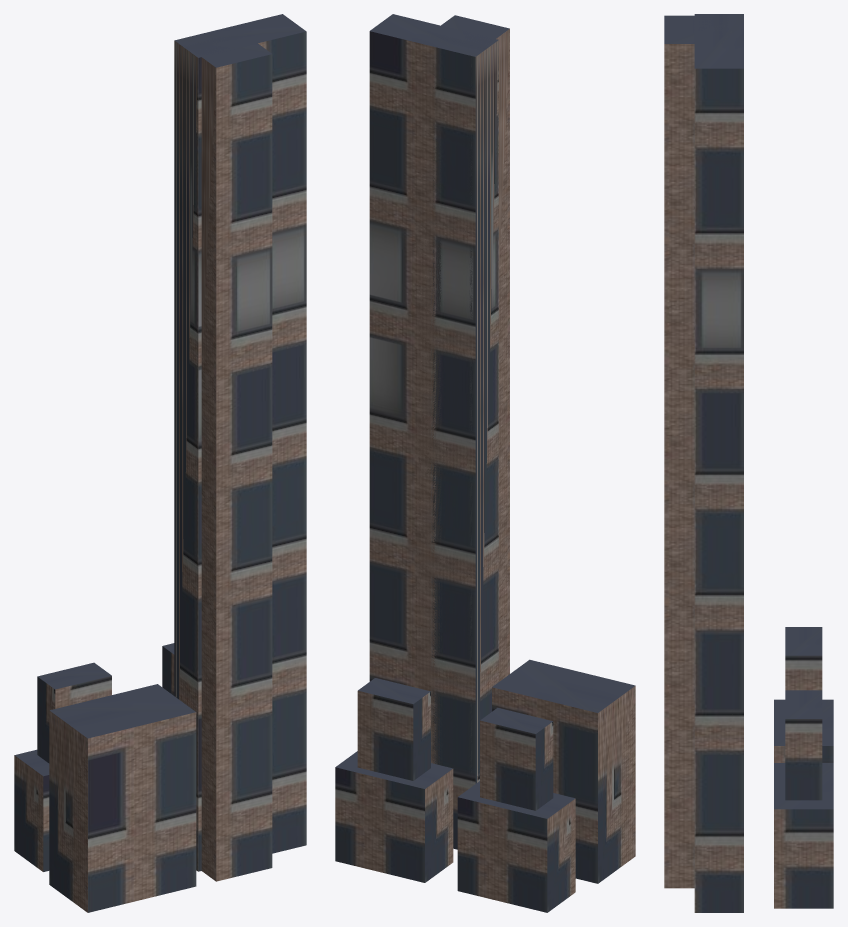
Rendered from block_05.obj.
The picture shows the model from 3 angles, left to right: view 1: azimuth 30°, elevation 25°; view 2: azimuth 150°, elevation 25°; view 3: azimuth 270°, elevation 25°; orthographic projection. The views are drawn at different scales.
Parts seen in each view (by area): view 1: b3, b1, b0, b2; view 2: b3, b0, b2, b1; view 3: b3, b2, b0.
Boxes of the visible parts, x1=… form: b3: x1=174, y1=14, x2=306, y2=881; b1: x1=49, y1=684, x2=196, y2=912; b0: x1=14, y1=662, x2=111, y2=871; b2: x1=162, y1=643, x2=174, y2=695; b3: x1=369, y1=14, x2=509, y2=849; b0: x1=457, y1=707, x2=575, y2=912; b2: x1=335, y1=678, x2=453, y2=882; b1: x1=492, y1=659, x2=635, y2=883; b3: x1=664, y1=14, x2=743, y2=912; b2: x1=774, y1=690, x2=833, y2=908; b0: x1=774, y1=627, x2=833, y2=762.
Bounding box in the file's own units: 4.2 × 14 × 2.55.
